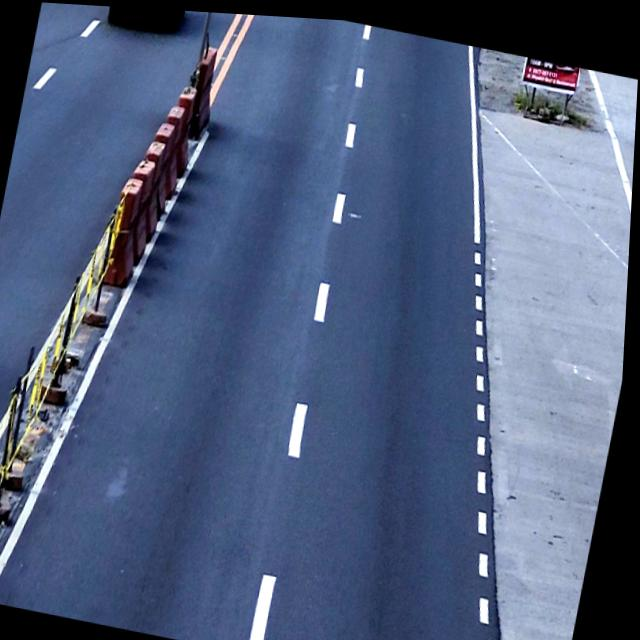Car: (104, 5, 188, 34)
